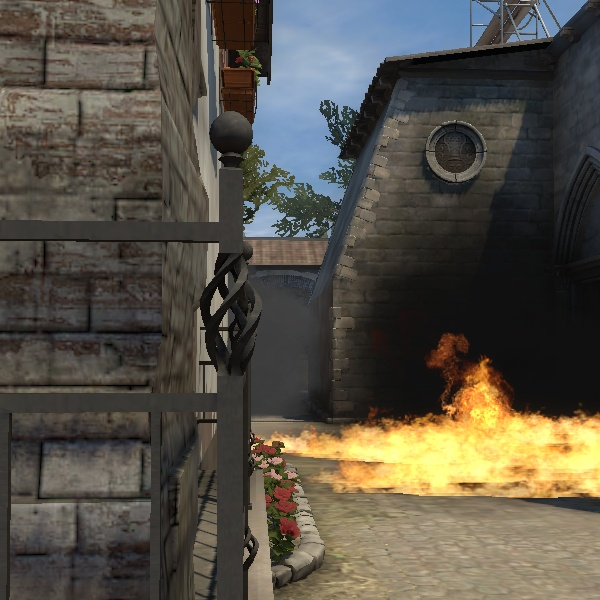ct_body: (260, 452, 313, 582)
